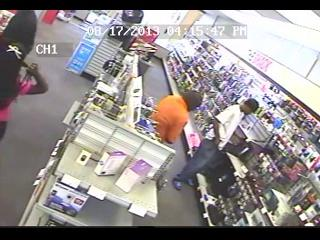Normal: (172, 98, 259, 192), (0, 11, 38, 139), (148, 90, 204, 145)
